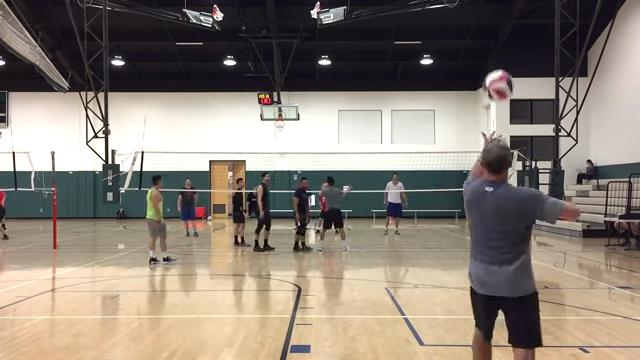battuta: (460, 125, 583, 359)
